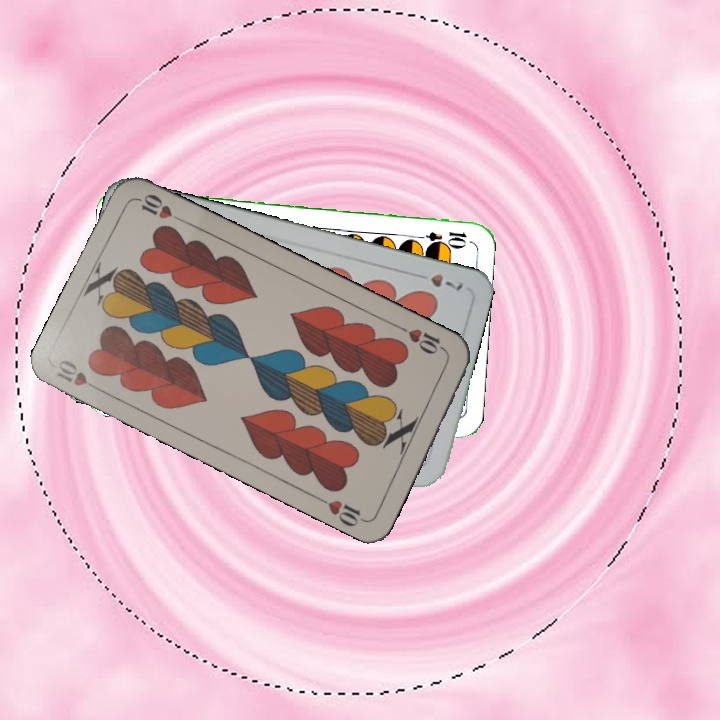E10: (410, 227, 470, 247)
H10: (52, 355, 106, 396), (395, 322, 450, 357)
H7: (409, 269, 465, 293)
